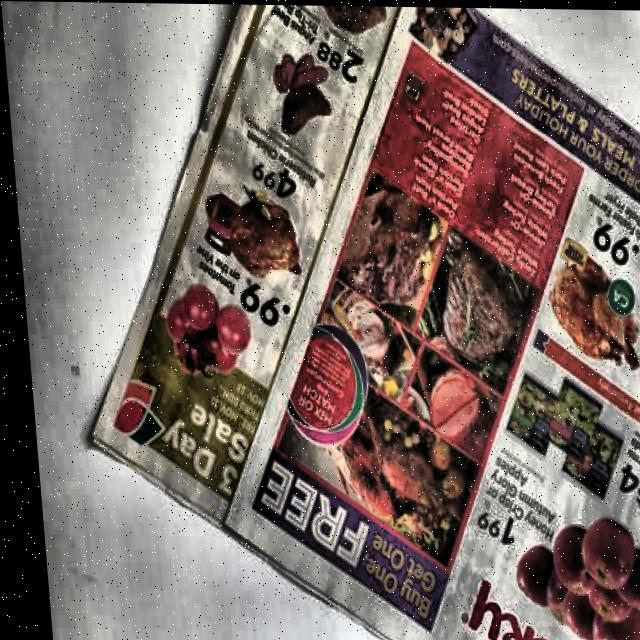paper: (52, 1, 640, 640)
